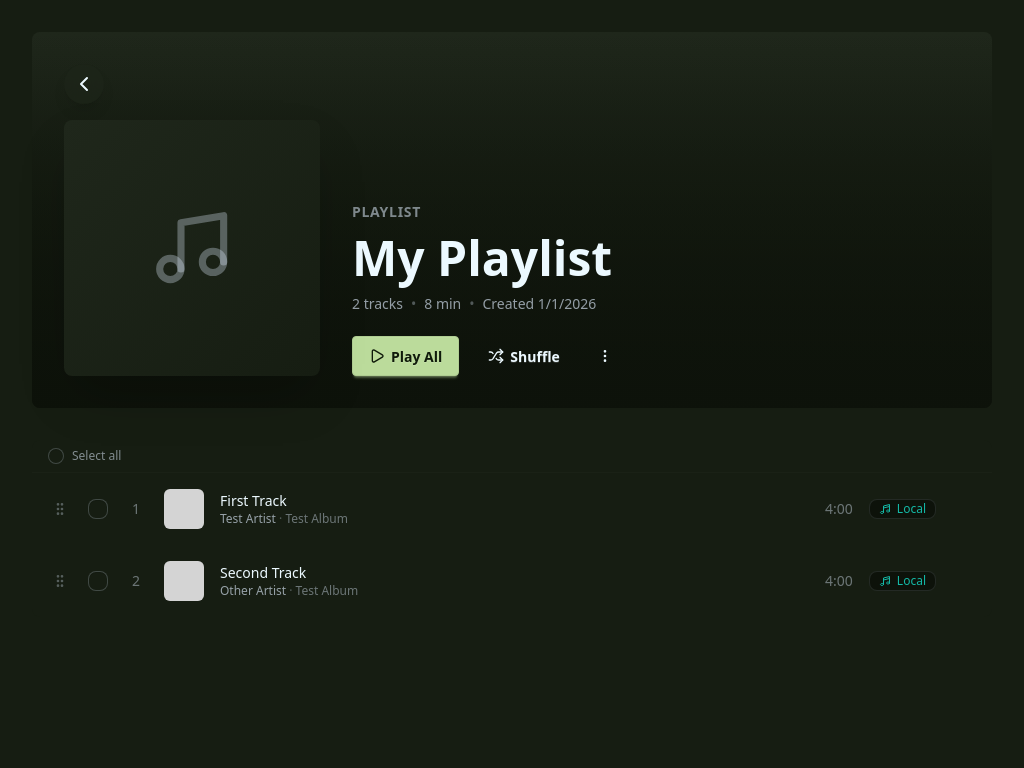
it: Playlist detail page › inline name editing: clicking name shows input, Escape cancels
Expected: the heading "My Playlist" is shown, x1=352 y1=228 x2=612 y2=288
Click the button with aria-label "Edit playlist name": (482, 258) x1=352 y1=228 x2=960 y2=288
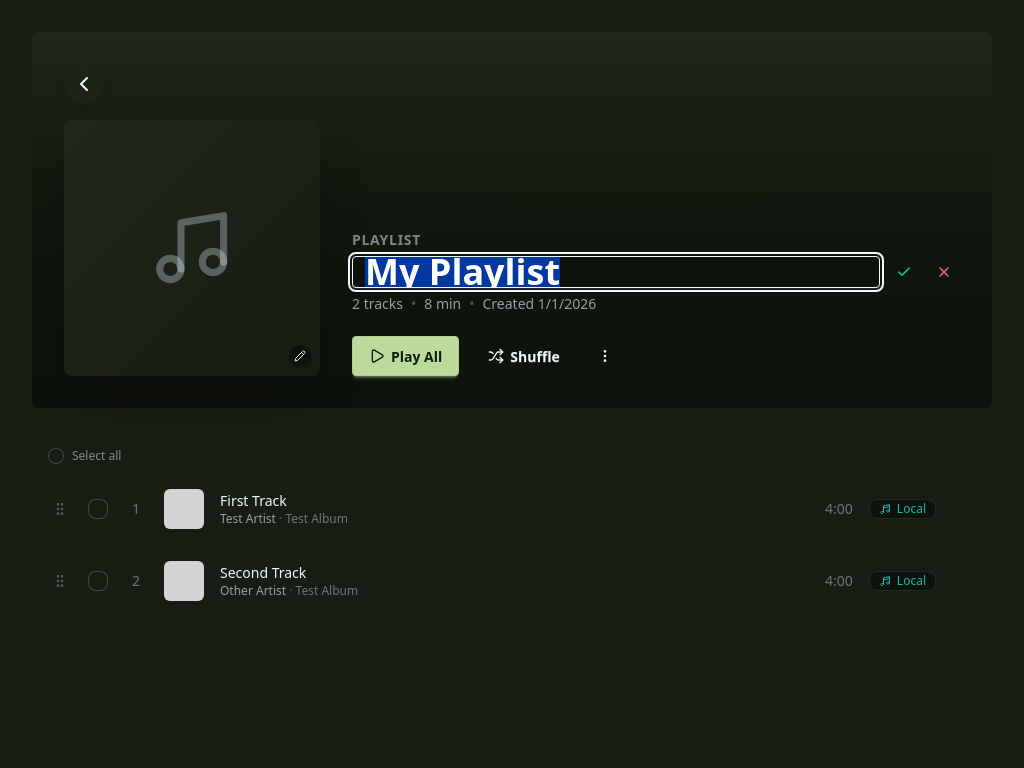
Result: the field with placeholder "Playlist name" is shown at x1=352 y1=256 x2=880 y2=288
Press Escape
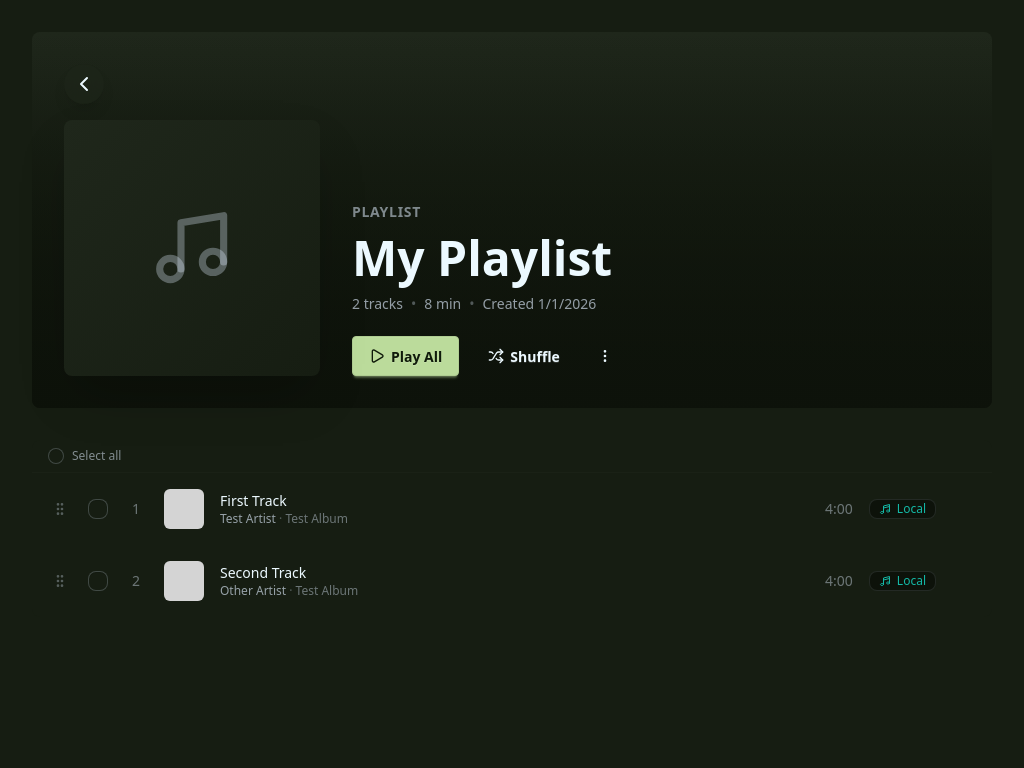
Result: the heading "My Playlist" is shown at x1=352 y1=228 x2=612 y2=288
